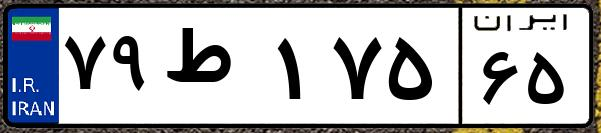1: (270, 28, 330, 110)
5: (385, 28, 445, 110), (525, 38, 570, 115)
6: (475, 38, 525, 113)
7: (330, 28, 385, 110), (57, 26, 110, 100)
9: (110, 28, 158, 98)
ط: (158, 20, 270, 120)
